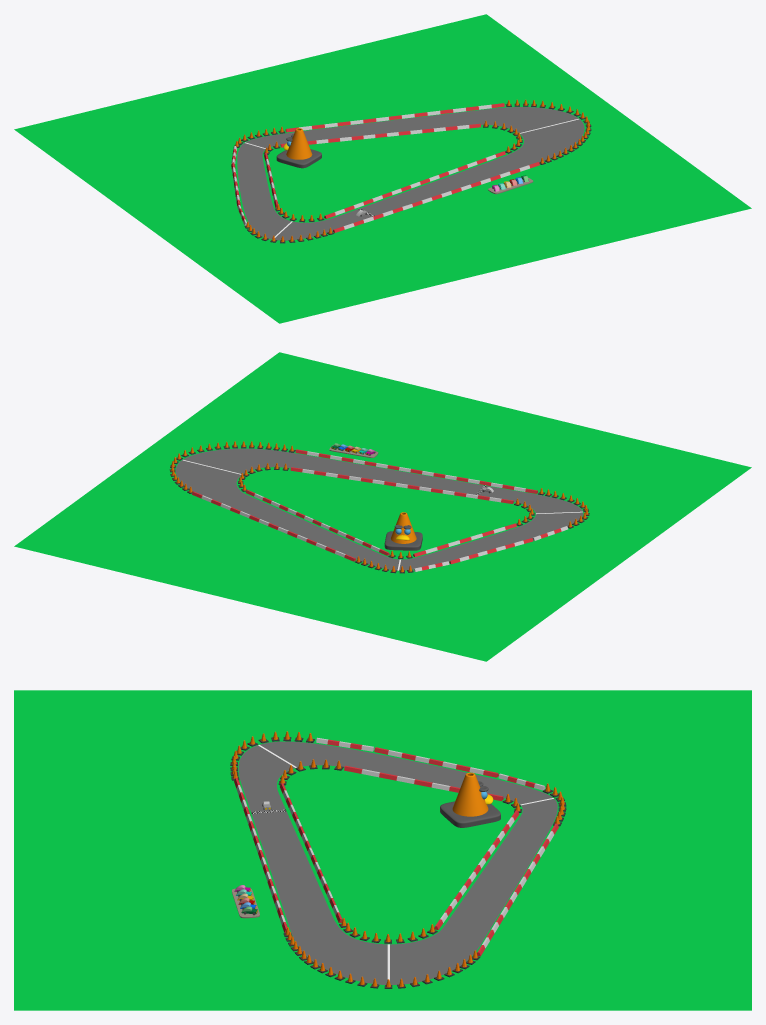
File: Track022.fbx
The picture shows the model from 3 angles, top to bottom: view 1: azimuth 30°, elevation 25°; view 2: azimuth 150°, elevation 25°; view 3: azimuth 270°, elevation 25°; orthographic projection. The views are drawn at different scales.
Visible parts, largest first — view 1: Grass, Road, Barrier.002, Barrier.001, Barrier.005, Barrier.007, BigConeTop; view 2: Grass, Road, Barrier.002, Barrier.005, Barrier.001, Barrier.007; view 3: Grass, Road, BigConeTop, Barrier.002, Barrier.001, BigConeBase, Barrier.005, Barrier.007, Barrier.006, Barrier.009.
Boxes of the visible parts, x1,y1,x2,y2 form: Grass: (14, 14, 751, 323); Road: (237, 107, 584, 240); Barrier.002: (332, 162, 539, 232); Barrier.001: (285, 103, 504, 132); Barrier.005: (324, 151, 505, 218); Barrier.007: (280, 123, 480, 147); BigConeTop: (286, 128, 312, 159); Grass: (14, 352, 751, 661); Road: (175, 448, 583, 570); Barrier.002: (295, 449, 537, 493); Barrier.005: (290, 467, 513, 503); Barrier.001: (192, 491, 356, 561); Barrier.007: (246, 490, 389, 555); Grass: (14, 690, 751, 1010); Road: (238, 741, 557, 984); BigConeTop: (452, 772, 488, 816); Barrier.002: (234, 778, 287, 932); Barrier.001: (477, 823, 558, 956); BigConeBase: (440, 801, 500, 827); Barrier.005: (280, 783, 342, 922); Barrier.007: (434, 810, 519, 929); Barrier.006: (344, 765, 503, 801); Barrier.009: (374, 747, 498, 777).
Size of the model in its own units: 296 by 288 by 17.49.
